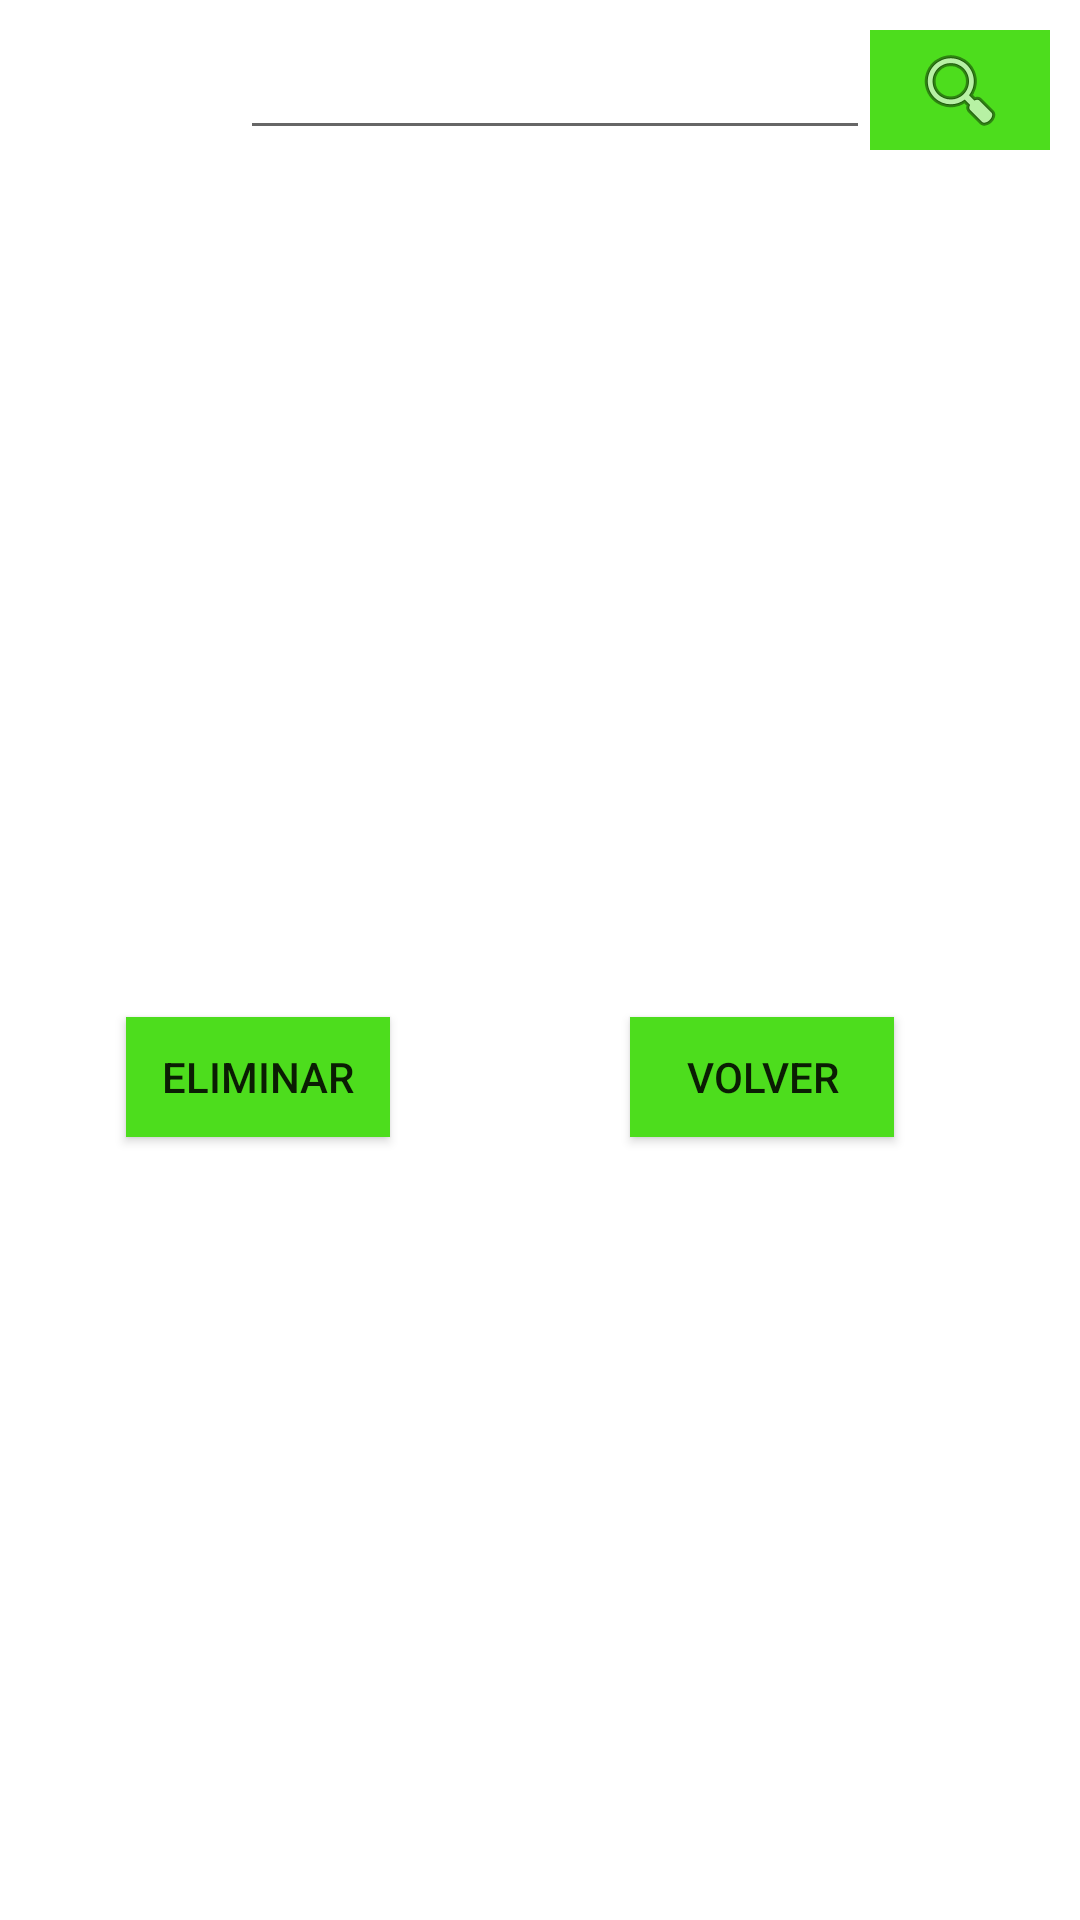

Icon click points for this 1080x1920 phone screenshot, format point (x, y):
search: point (960, 90)
